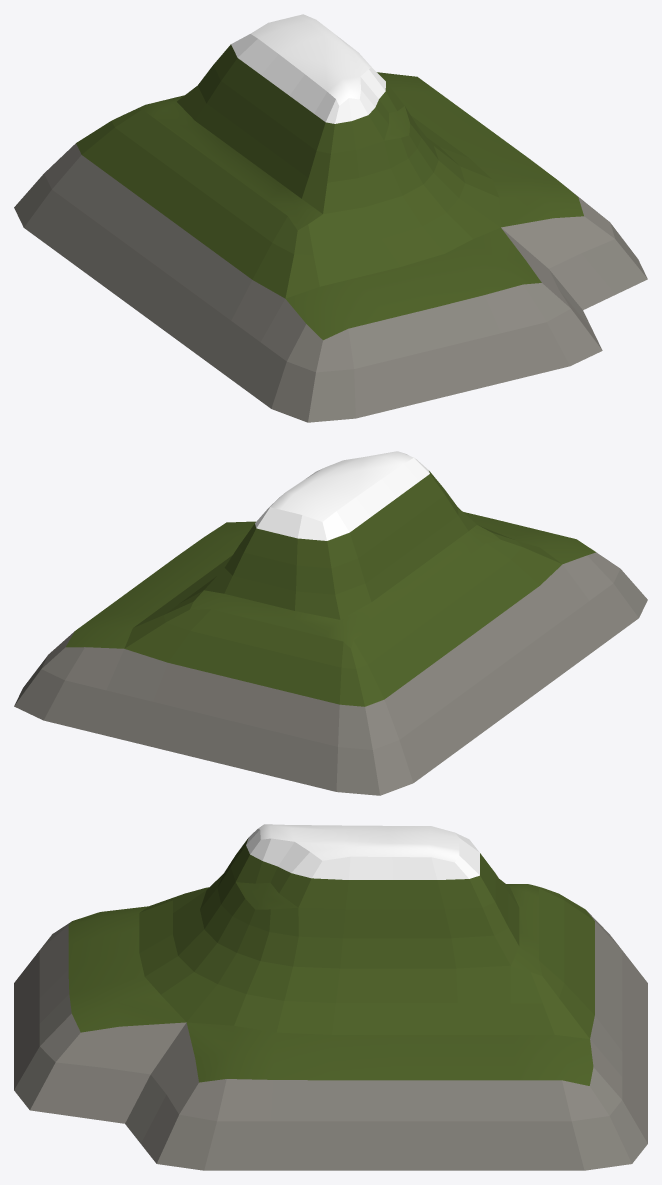
The model's file is Island14.FBX.
3 views of the same model, one above another, from view 1: azimuth 30°, elevation 25°; view 2: azimuth 150°, elevation 25°; view 3: azimuth 270°, elevation 25° (orthographic). The views are drawn at different scales.
Visible parts, largest first — view 1: Plane001; view 2: Plane001; view 3: Plane001.
Boxes of the visible parts, x1=… form: Plane001: x1=14, y1=14, x2=647, y2=422; Plane001: x1=14, y1=451, x2=647, y2=795; Plane001: x1=14, y1=824, x2=647, y2=1170.
Bounding box in the file's own units: 40 × 18.79 × 50.
